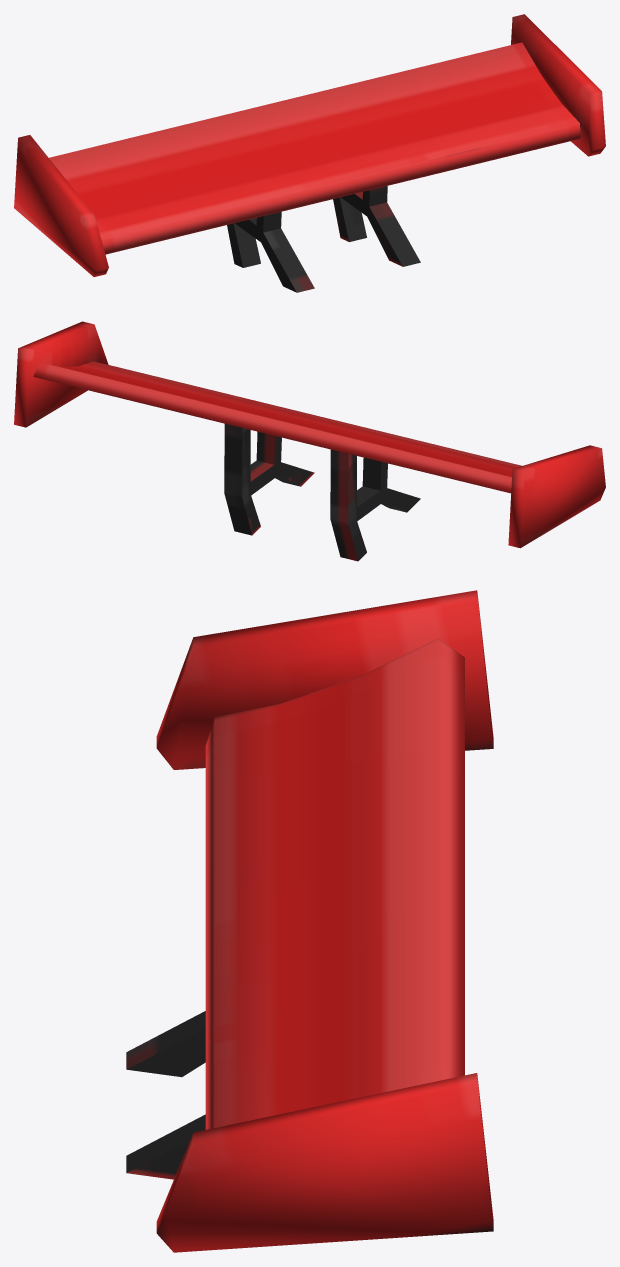
File: spoiler.fbx
3 renders of one model, top to bottom at view 1: azimuth 30°, elevation 25°; view 2: azimuth 150°, elevation 25°; view 3: azimuth 270°, elevation 25°, orthographic. The views are drawn at different scales.
Visible parts, largest first — view 1: spoiler; view 2: spoiler; view 3: spoiler.
Boxes of the visible parts, x1,y1,x2,y2 form: spoiler: (14, 14, 605, 292); spoiler: (14, 321, 605, 561); spoiler: (126, 590, 493, 1252).
Size of the model in its own units: 383 by 109 by 117.
